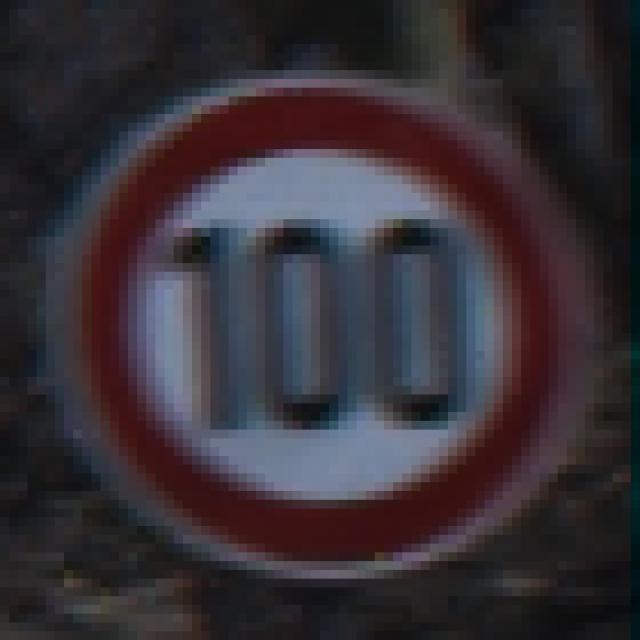speed limit 100: (48, 75, 598, 578)
